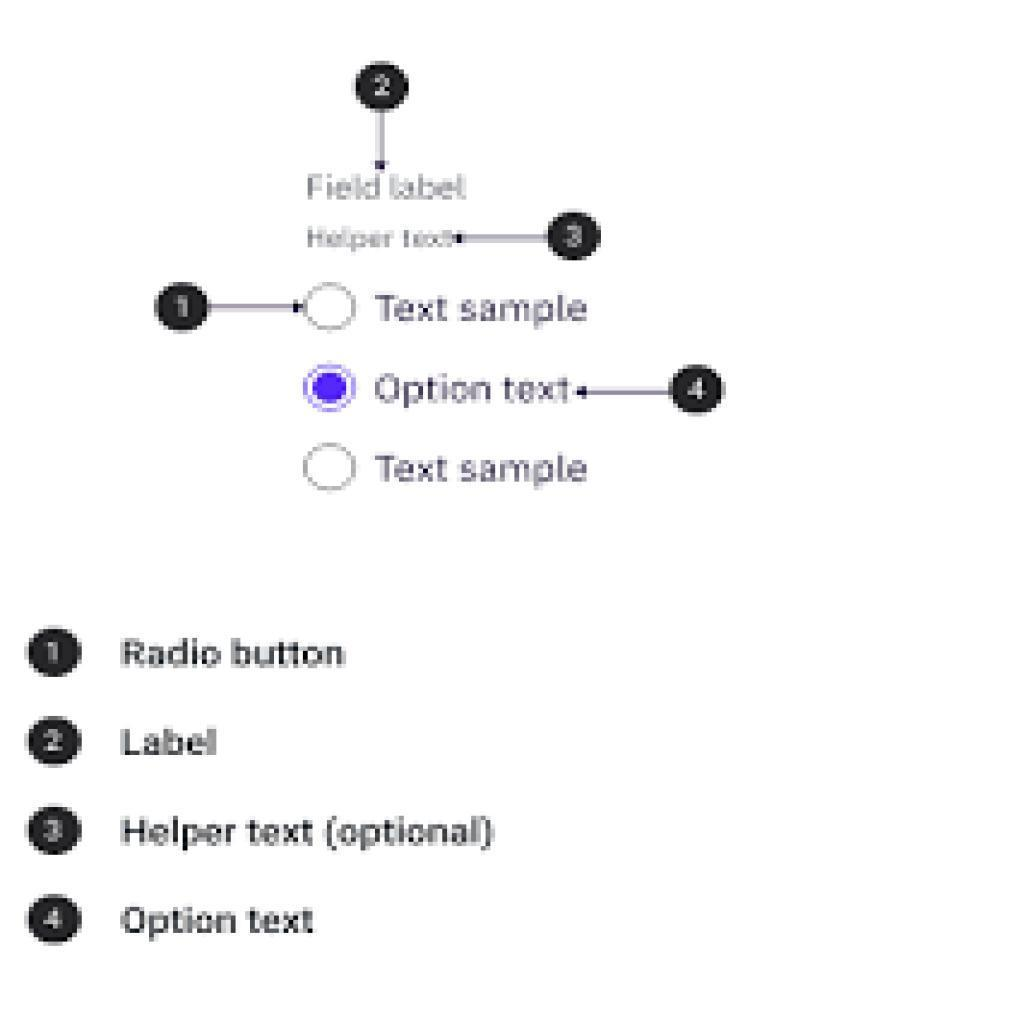radio: (301, 361, 362, 413), (304, 284, 362, 336), (304, 443, 360, 490)
